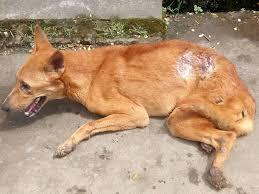cut: (154, 49, 225, 82)
